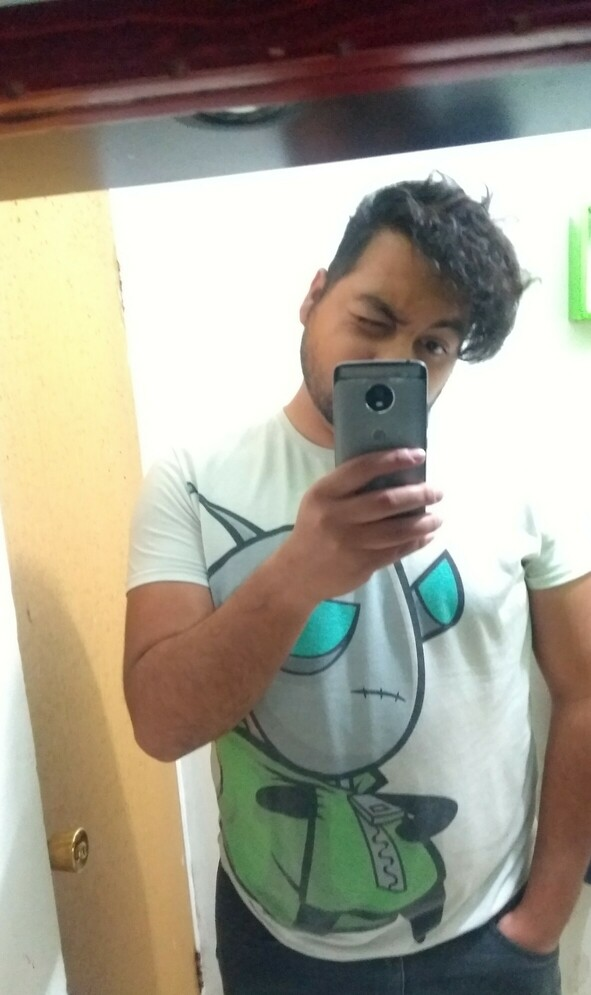Yoshi: (258, 167, 561, 490)
